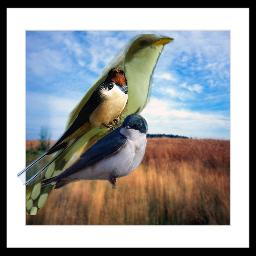Cuckoo: (26, 34, 174, 215)
Swallow: (17, 67, 128, 185), (39, 113, 148, 189)
